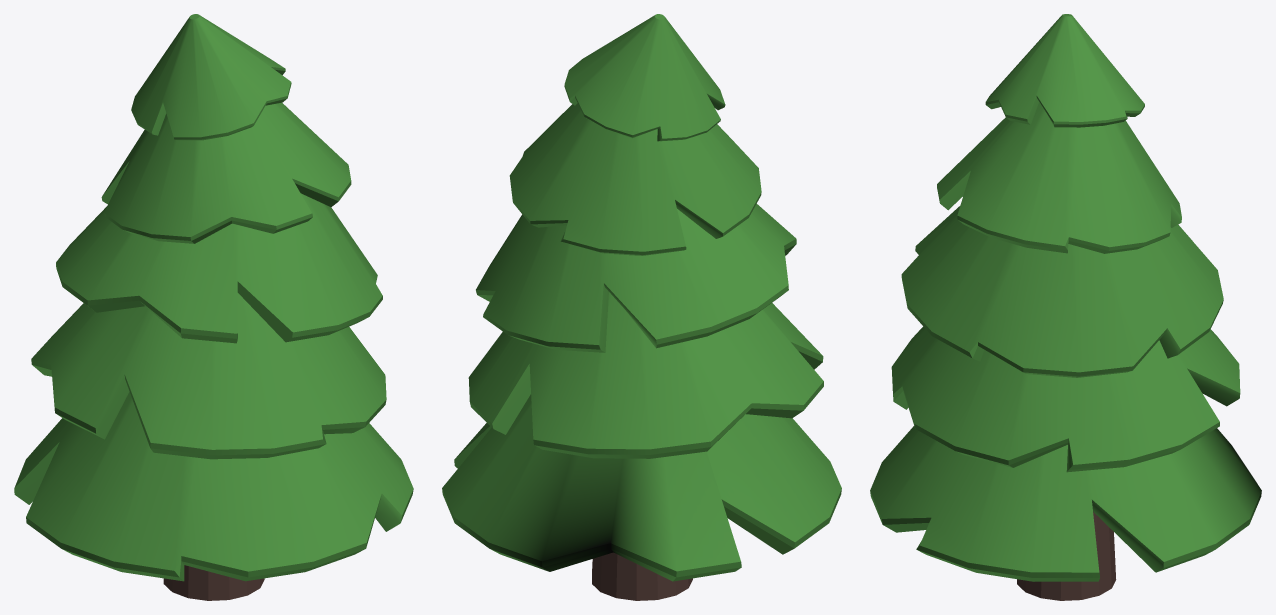
Rendered from Tree 1.fbx.
3 renders of one model, left to right at view 1: azimuth 30°, elevation 25°; view 2: azimuth 150°, elevation 25°; view 3: azimuth 270°, elevation 25°, orthographic. The views are drawn at different scales.
Parts seen in each view (by area): view 1: Tree 1; view 2: Tree 1; view 3: Tree 1.
Boxes of the visible parts, box(x1,y1,x2,y2) form: Tree 1: box(14, 14, 413, 600); Tree 1: box(442, 14, 841, 600); Tree 1: box(870, 14, 1261, 600).
Size of the model in its own units: 408 by 649 by 414.
